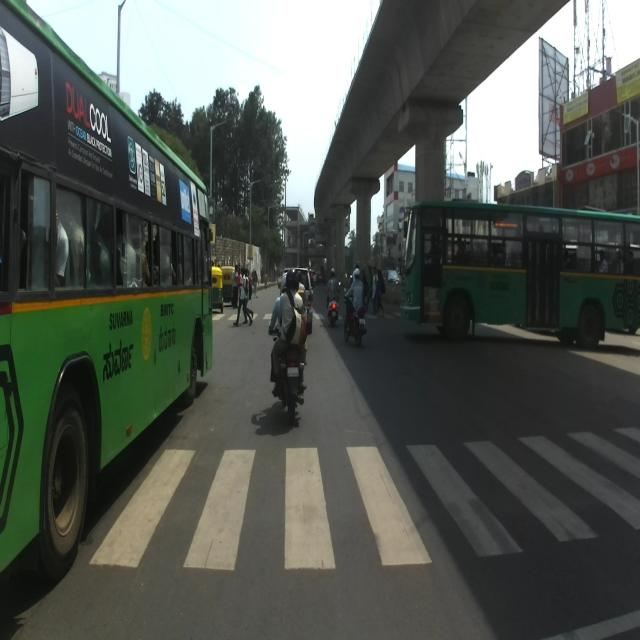bus: (0, 0, 213, 581), (396, 198, 640, 352)
car: (282, 264, 314, 339), (342, 286, 368, 345)
motorcycle: (268, 318, 310, 426)
scooter: (326, 288, 339, 323)
